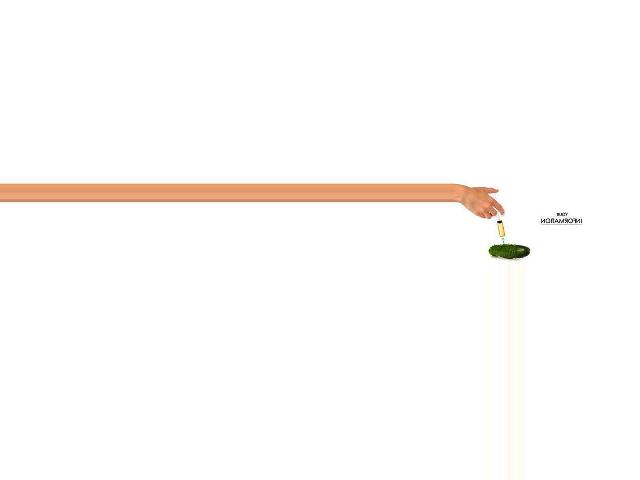cucumber: (487, 244, 529, 258)
